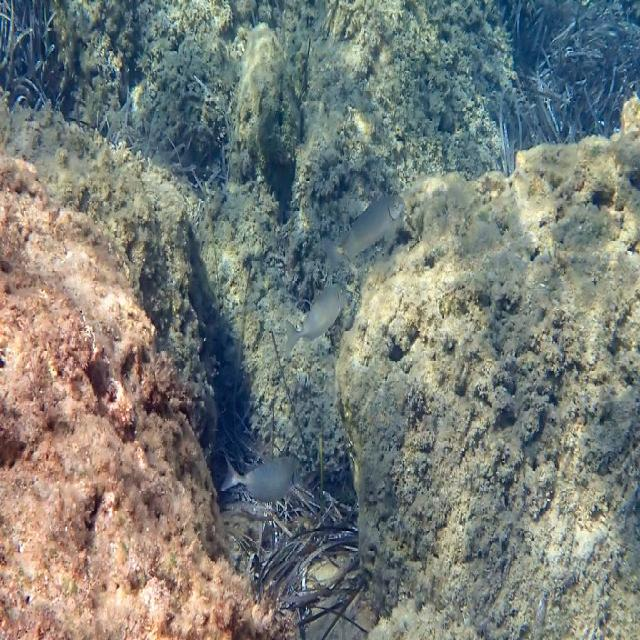Sokar Baligi: (318, 181, 412, 279), (215, 433, 311, 511), (281, 272, 353, 362)
